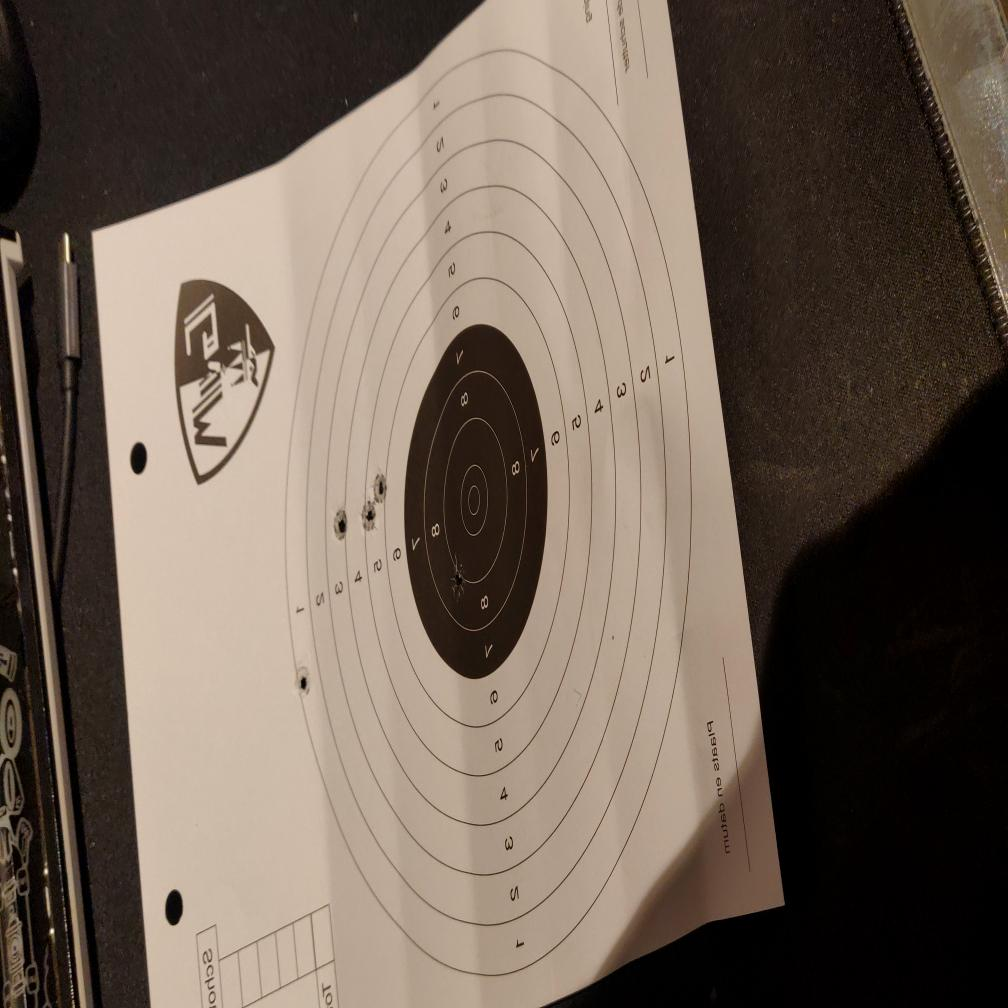1: (295, 664, 311, 698)
4: (332, 504, 349, 541)
5: (361, 498, 378, 533)
6: (372, 469, 389, 504)
9: (450, 557, 467, 600)
Target: (282, 45, 693, 978)
black_contour: (404, 322, 548, 677)
